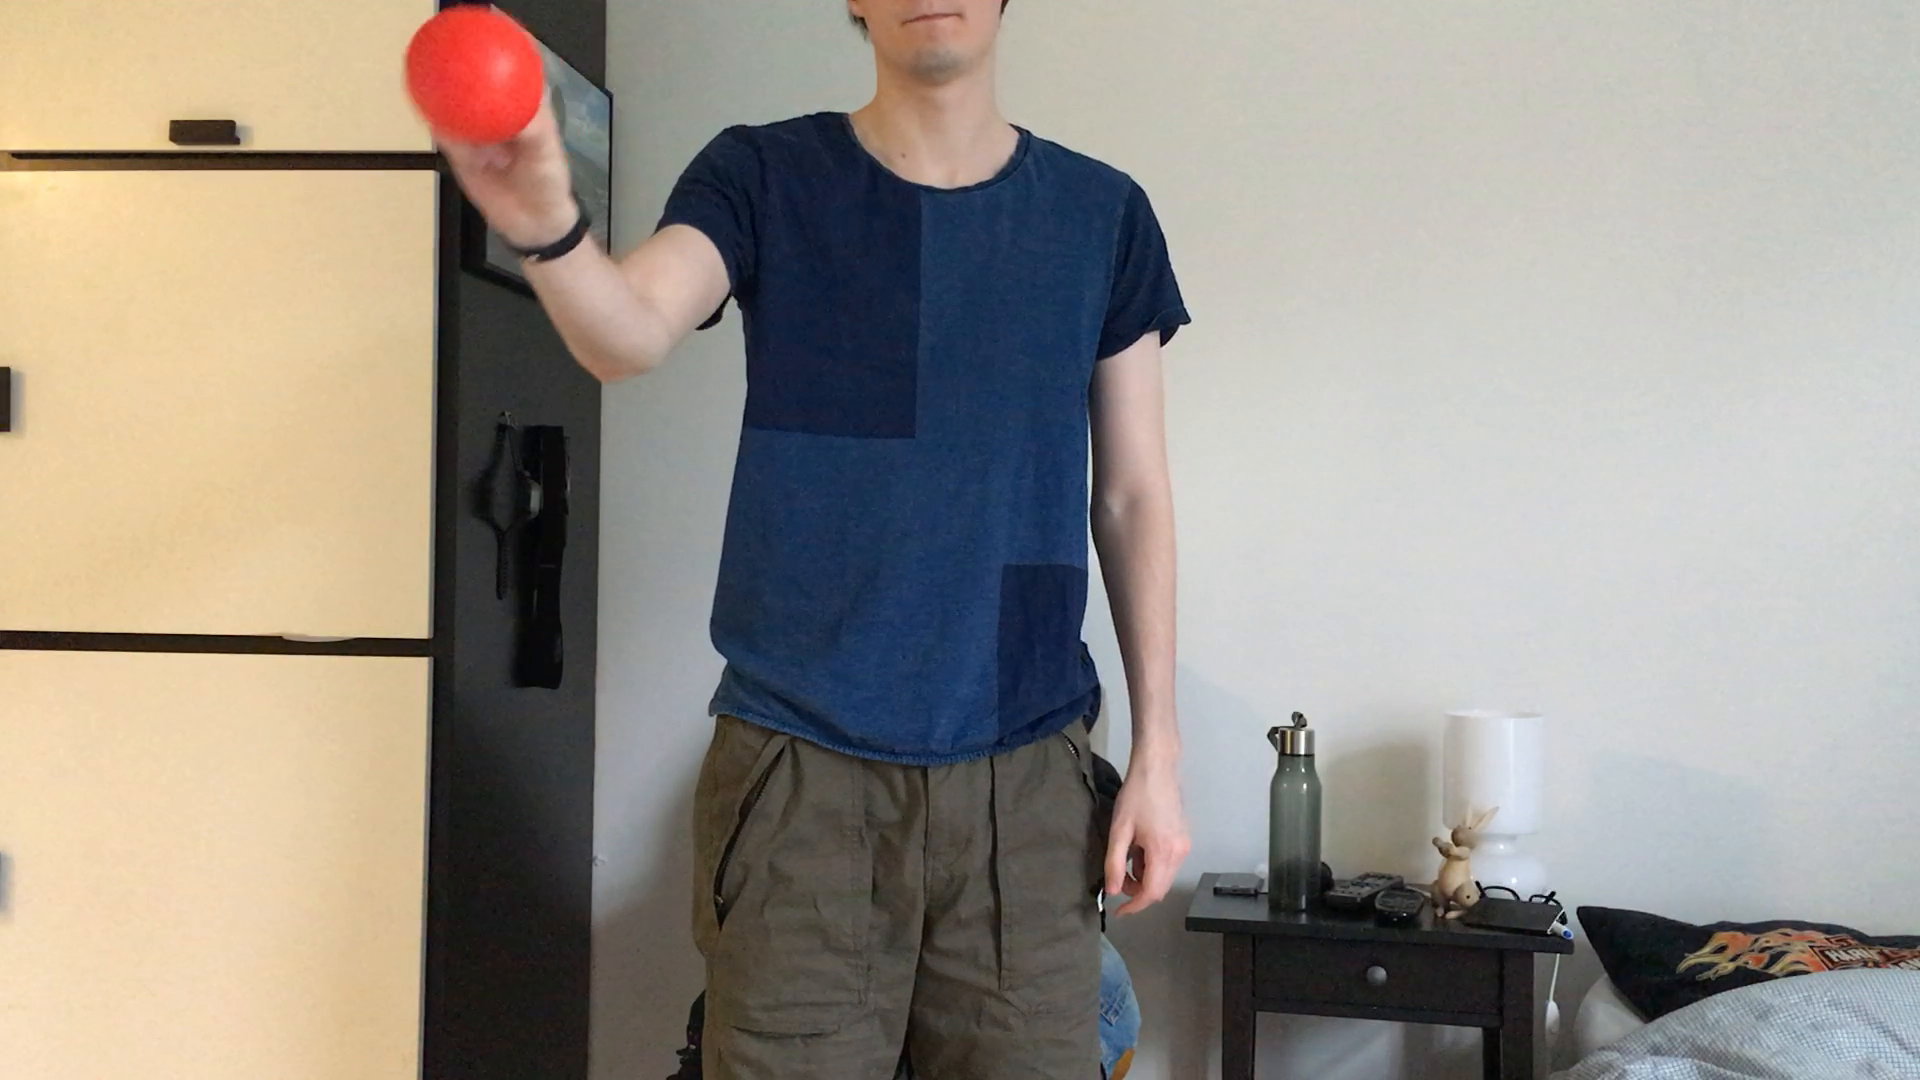Ball: (410, 7, 546, 146)
